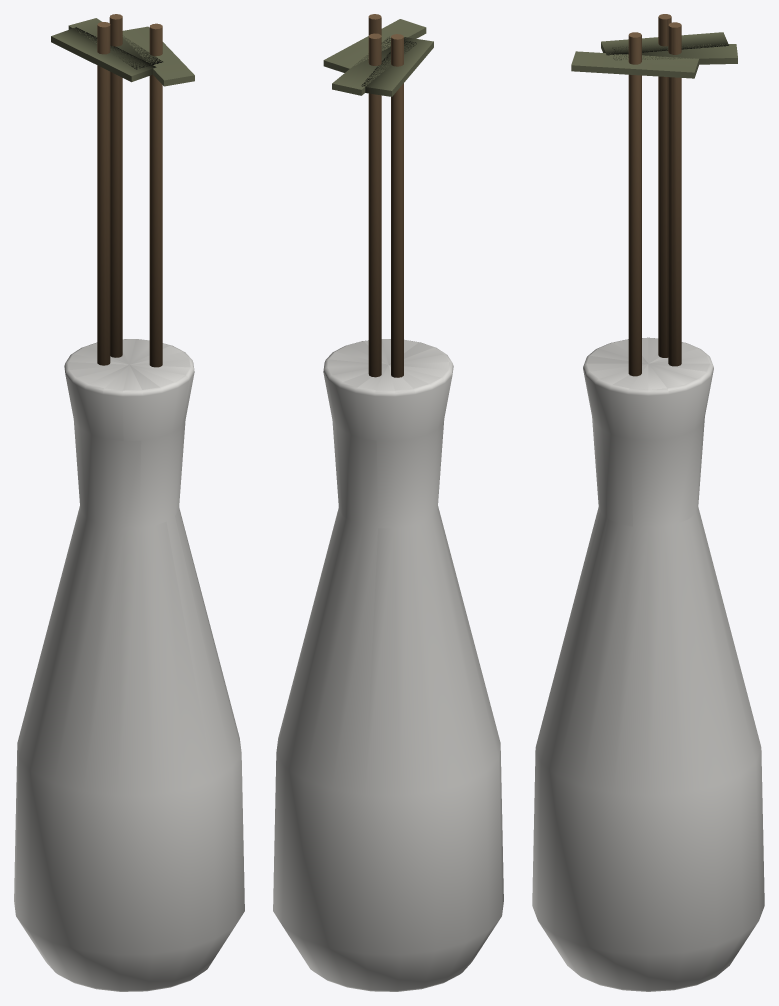
The model's file is vase_tall.glb.
The picture shows the model from 3 angles, left to right: view 1: azimuth 30°, elevation 25°; view 2: azimuth 150°, elevation 25°; view 3: azimuth 270°, elevation 25°; orthographic projection.
Parts seen in each view (by area): view 1: vase_tall; view 2: vase_tall; view 3: vase_tall.
Boxes of the visible parts, x1,y1,x2,y2 form: vase_tall: (14,14,244,991); vase_tall: (273,14,503,991); vase_tall: (532,14,764,991).
Size of the model in its own units: 0.14 by 0.62 by 0.14.
